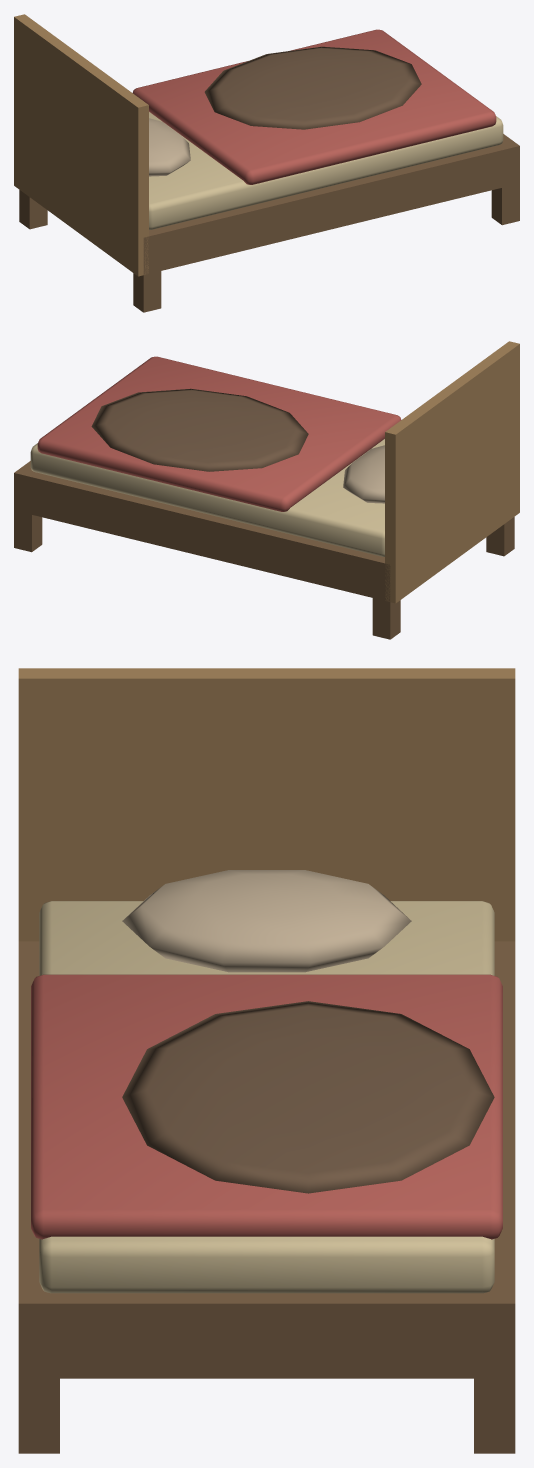
Rendered from bed.glb.
3 renders of one model, top to bottom at view 1: azimuth 30°, elevation 25°; view 2: azimuth 150°, elevation 25°; view 3: azimuth 270°, elevation 25°, orthographic. The views are drawn at different scales.
Parts seen in each view (by area): view 1: headboard, blanket, frame, pelt, mattress, pillow, leg-1-1, leg1-1, leg-11; view 2: headboard, blanket, frame, pelt, mattress, pillow, leg-11, leg11, leg-1-1; view 3: headboard, blanket, pelt, frame, mattress, pillow, leg1-1, leg11.
Part boxes in pixels (x1,y1,x2,y2): headboard: [14, 14, 148, 276]; blanket: [132, 29, 496, 184]; frame: [143, 134, 519, 274]; pelt: [204, 46, 421, 129]; mattress: [149, 112, 503, 229]; pillow: [149, 118, 190, 176]; leg-1-1: [133, 263, 161, 312]; leg1-1: [491, 183, 519, 225]; leg-11: [19, 190, 47, 229]; headboard: [385, 341, 519, 603]; blanket: [37, 356, 401, 511]; frame: [14, 461, 390, 601]; pelt: [91, 388, 308, 471]; mattress: [30, 439, 384, 556]; pillow: [343, 445, 384, 503]; leg-11: [372, 590, 400, 639]; leg11: [14, 510, 42, 552]; leg-1-1: [486, 517, 514, 556]; headboard: [18, 668, 515, 941]; blanket: [31, 974, 502, 1239]; pelt: [122, 1001, 494, 1193]; frame: [18, 941, 515, 1378]; mattress: [39, 901, 494, 1293]; pillow: [122, 870, 411, 972]; leg1-1: [18, 1363, 59, 1453]; leg11: [474, 1363, 515, 1453].
Size of the model in its own units: 2.13 by 1.1 by 1.2.
